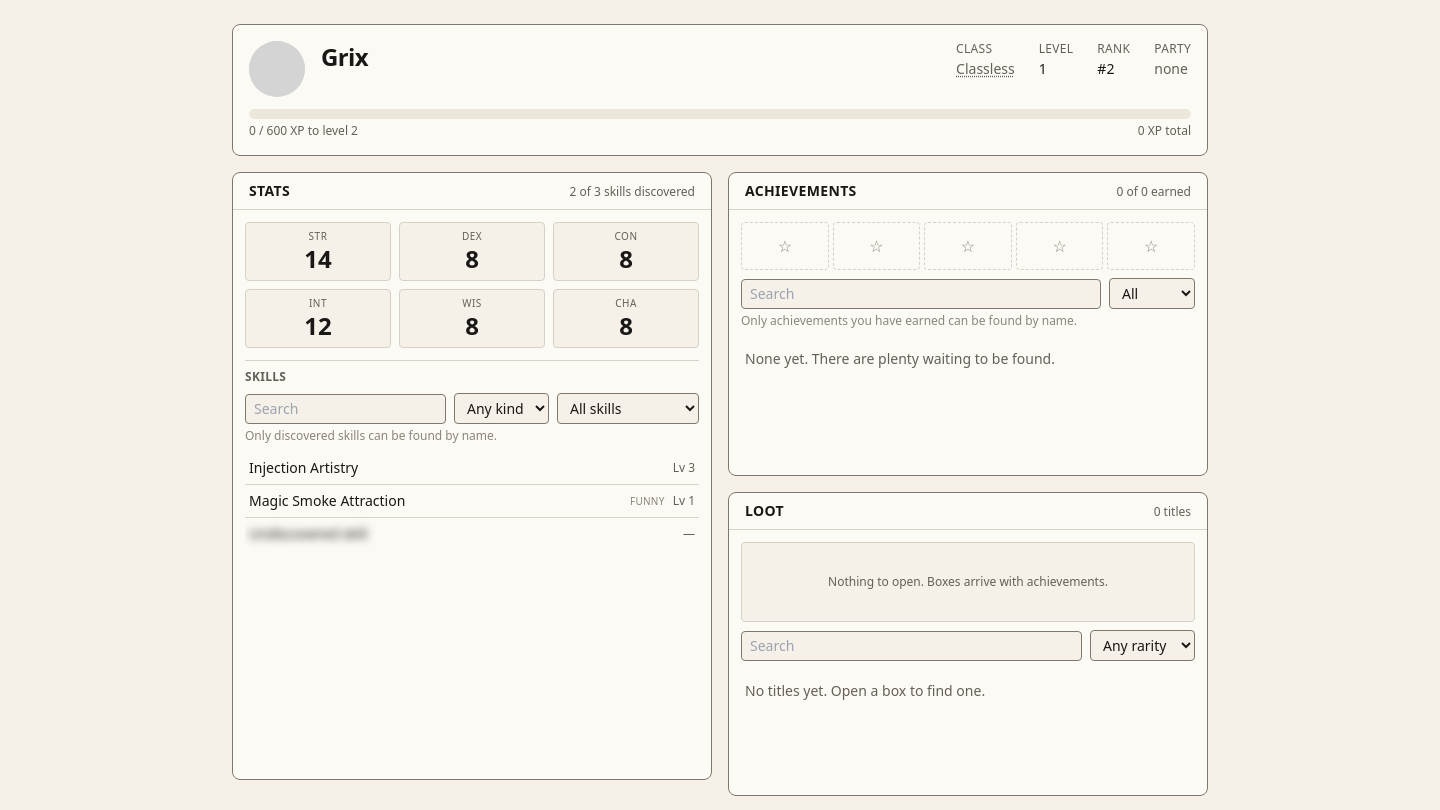
Test: choosing a class › shows the gate instead of a roster below the unlock level
What coordinates should you click on to do the following:
click the button "Classless"
I would click on:
 (985, 69)
Its box is [956,59,1015,79].
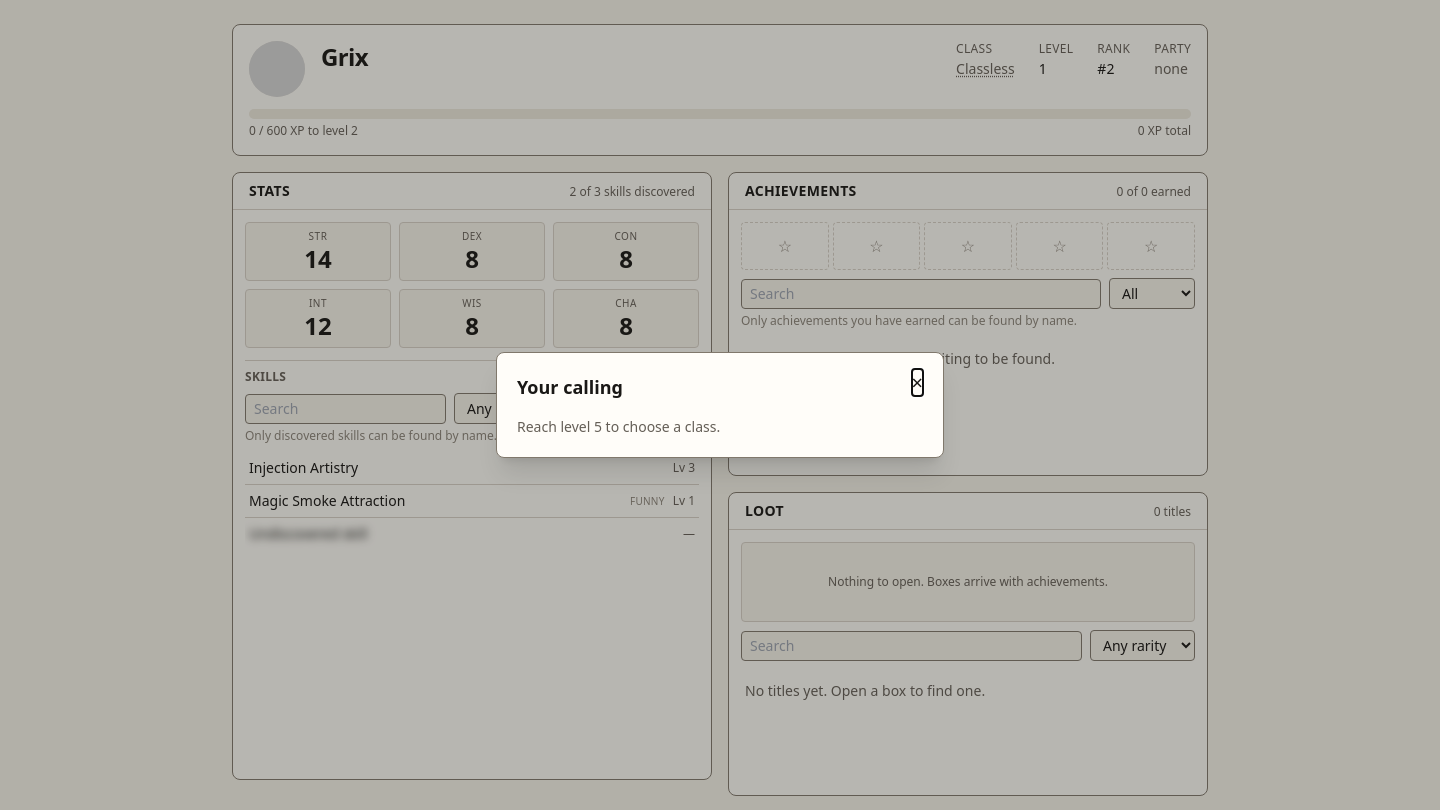
Check: the text "Reach level 5 to choose a class." is shown, box [517,417,720,436]
